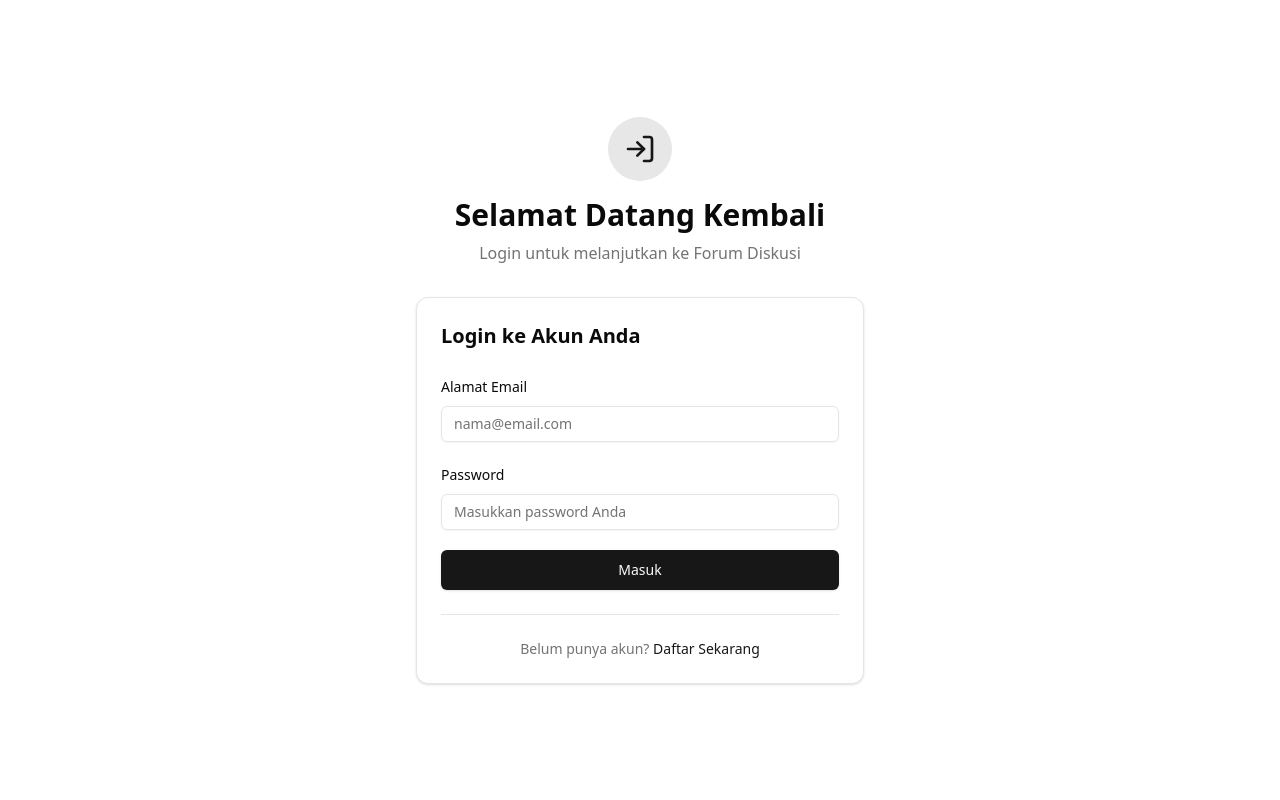
Test: Login spec › should display homepage when email and password are correct
The image size is (1280, 800).
Type "test@example.com" into the field labelled "Alamat Email" at (640, 424), box [441,406,839,442]
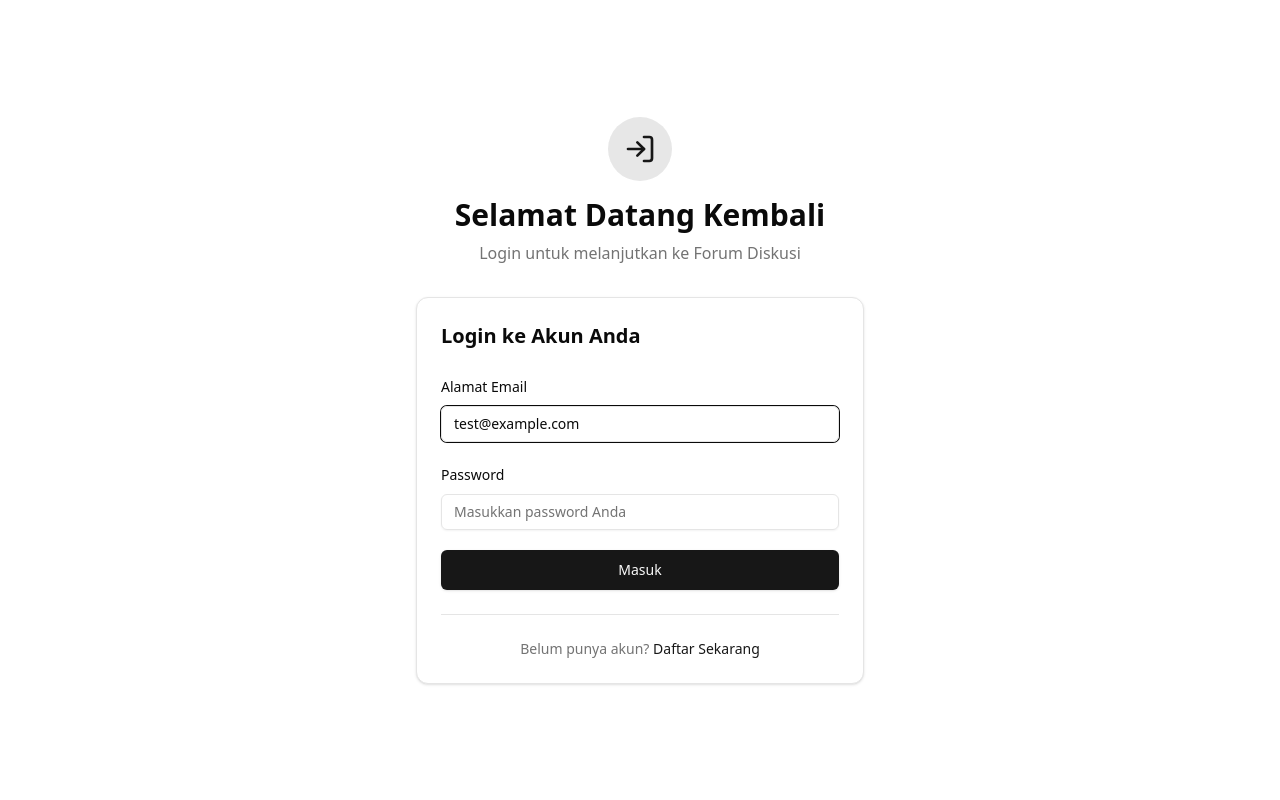
Type "password123" into the password field labelled "Password" at (640, 512), box [441,494,839,530]
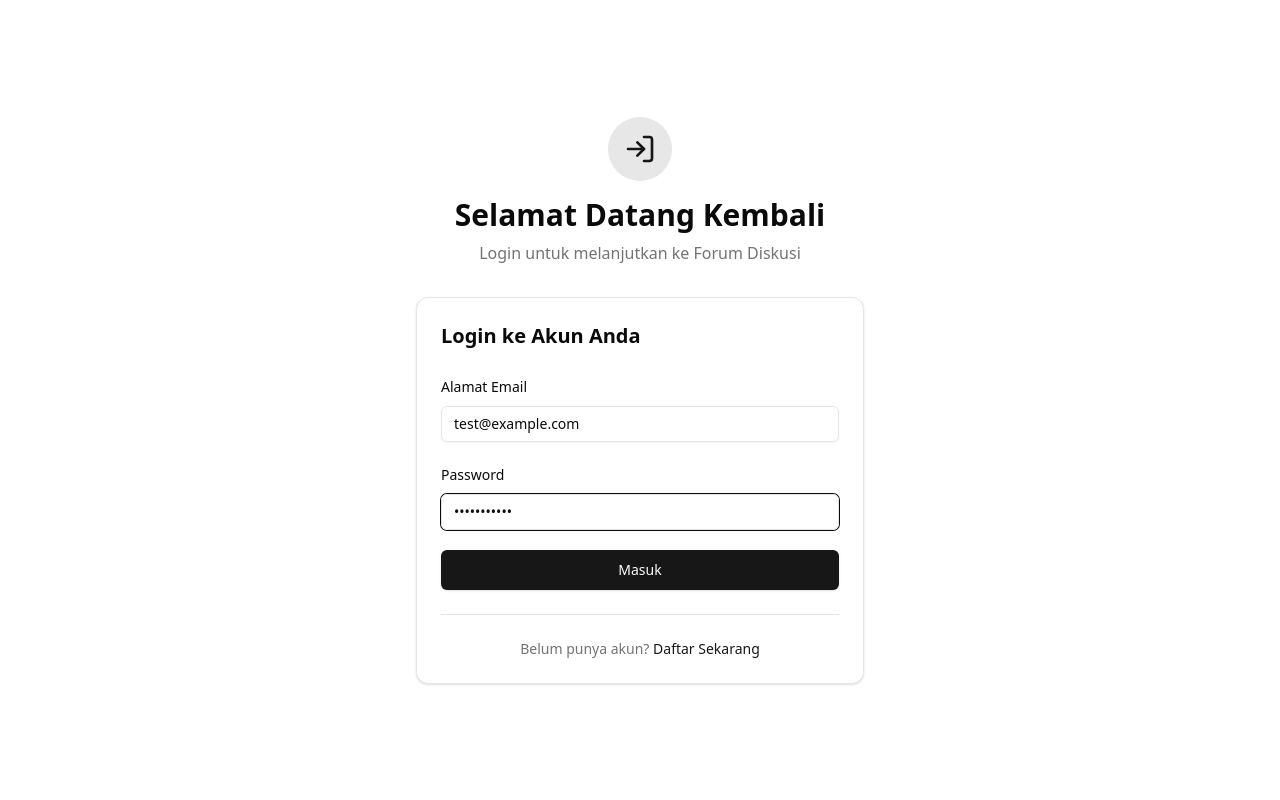
Click the button "Masuk" at (640, 570), box [441,550,839,590]
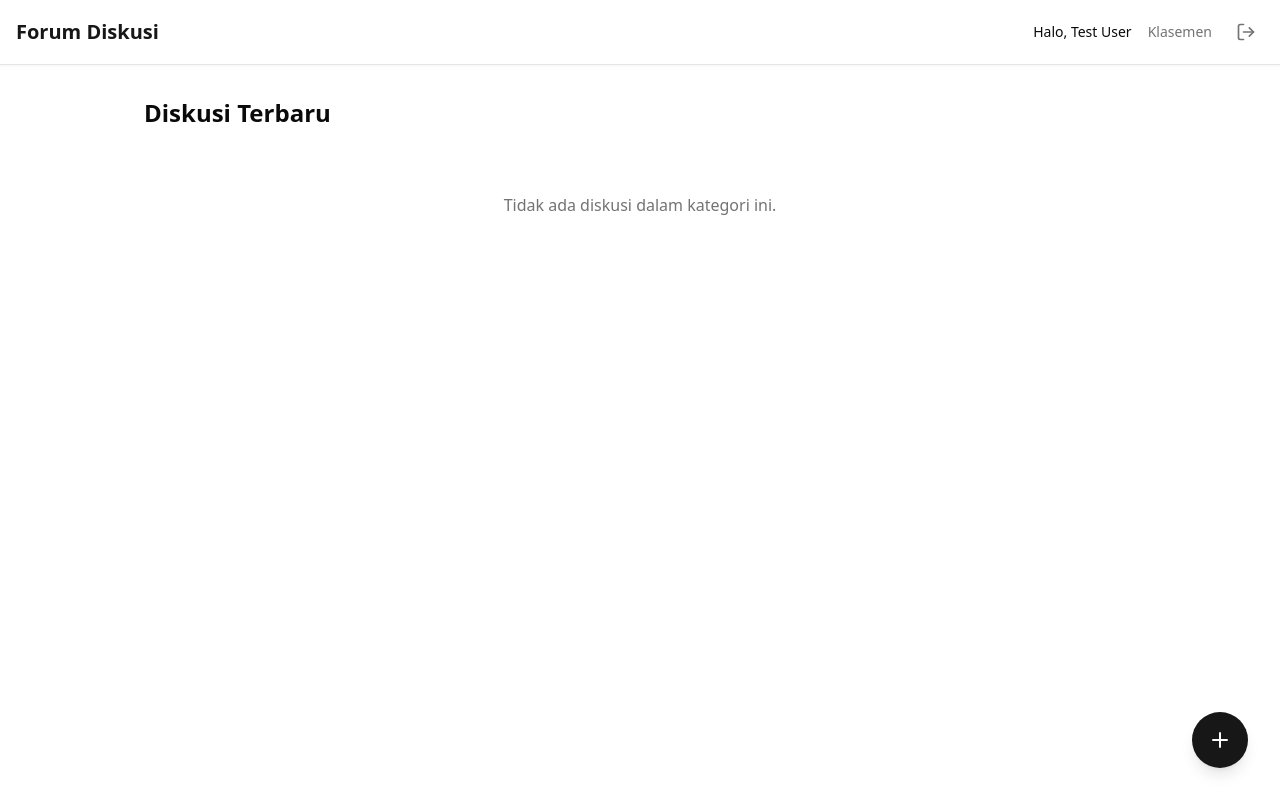
Expected: the text "Halo, Test User" is shown, [1033,22,1132,42]
